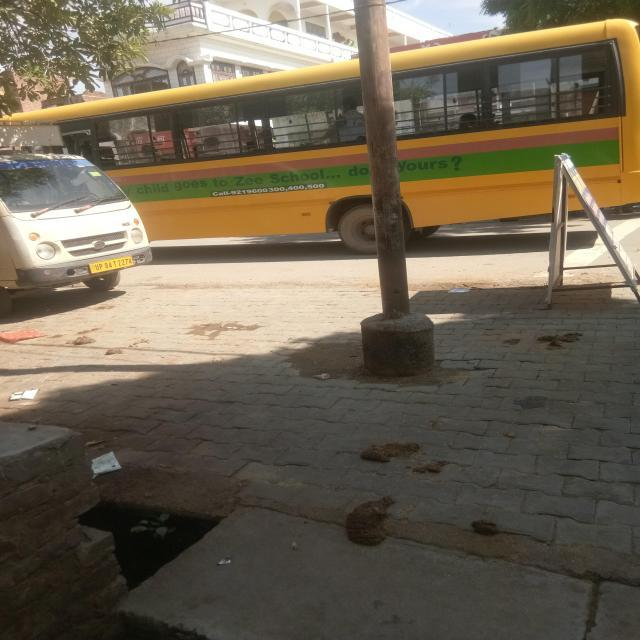plate: (86, 254, 134, 274)
